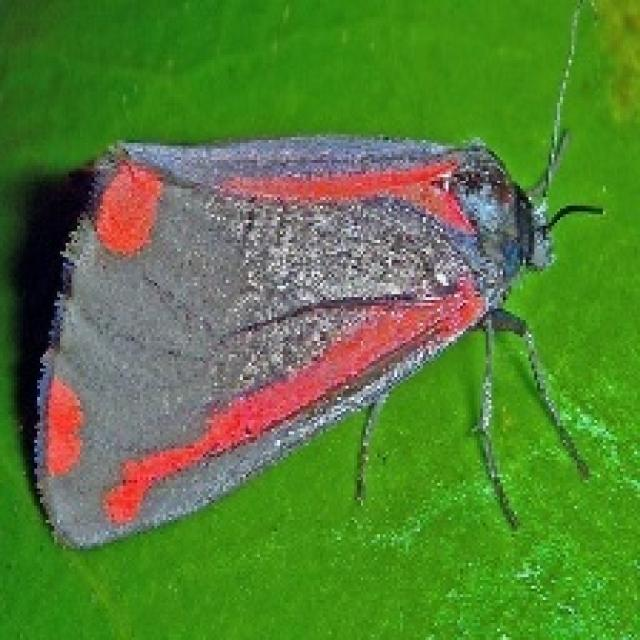butterfly: (28, 0, 606, 549)
